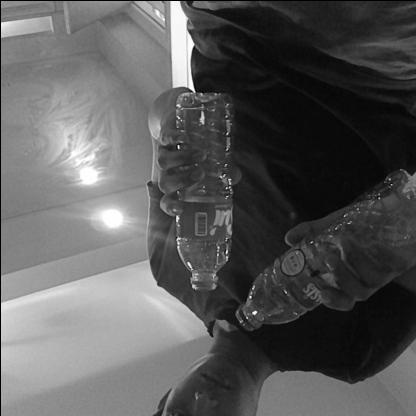plastic_bottles: (233, 176, 416, 340), (174, 86, 228, 292)
